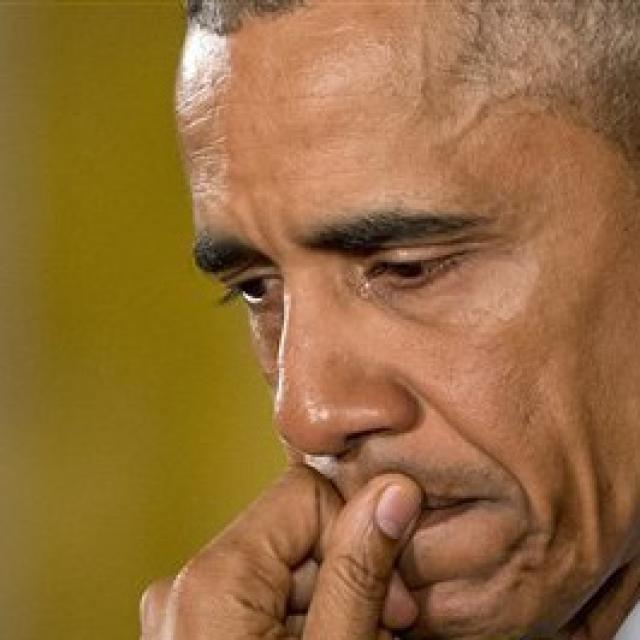Depress: (133, 16, 638, 638)
